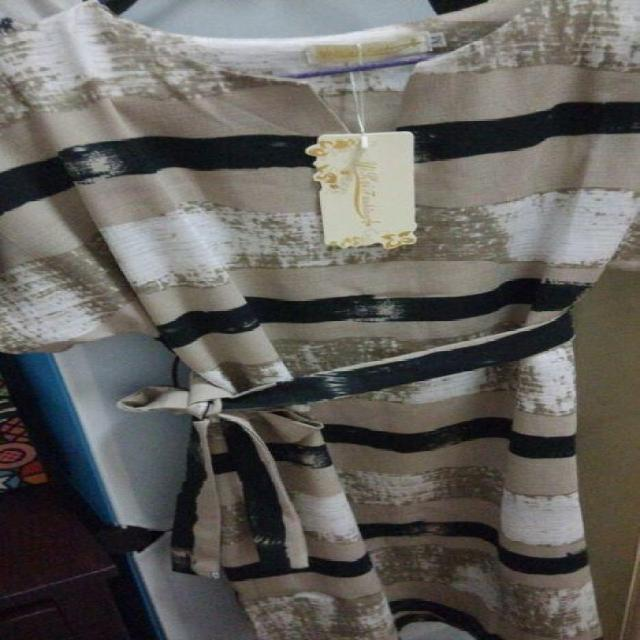short sleeve dress: (4, 1, 636, 639)
